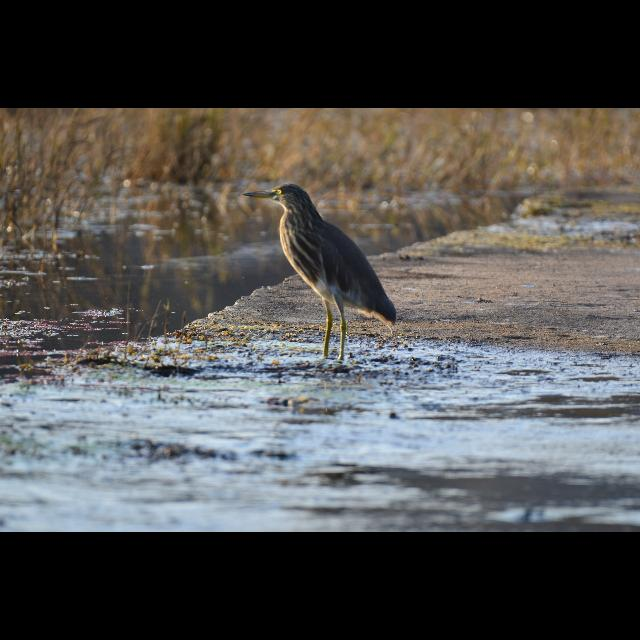heron: (238, 184, 404, 368)
